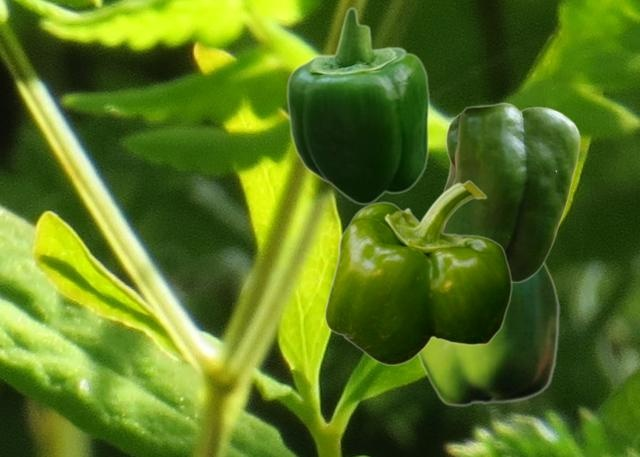bell_pepper: (324, 180, 511, 365), (286, 6, 429, 205), (442, 102, 580, 282), (416, 262, 559, 406)
